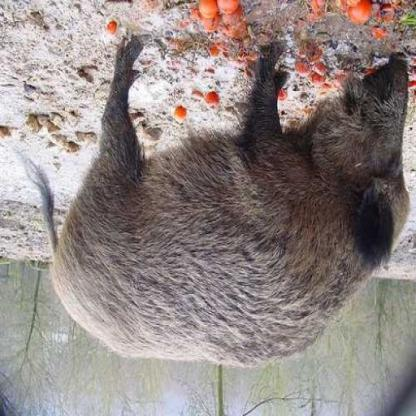boar: (35, 51, 415, 377)
